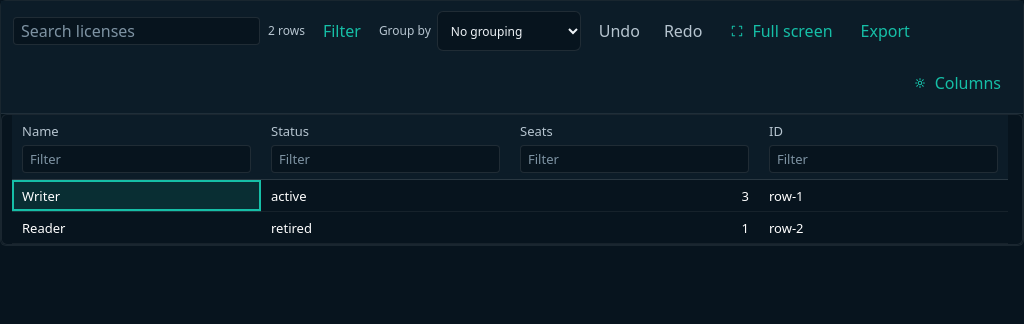
it: a cell the column rejects stays visible, is marked invalid, and blocks saving
Press ArrowRight in the table, box [12, 115, 1012, 244]
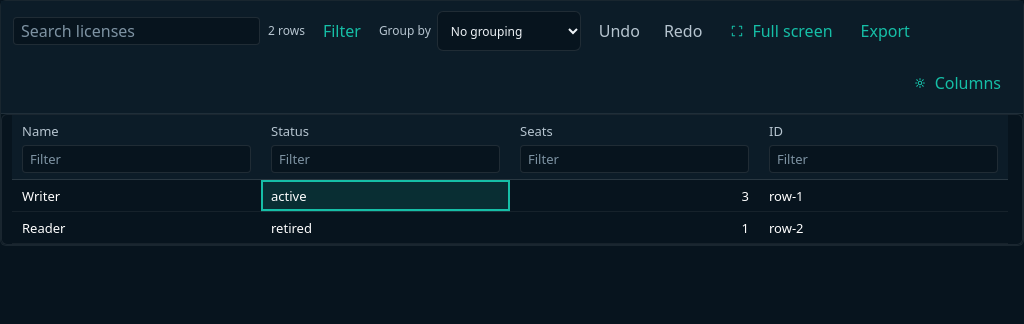
Press ArrowRight in the table, box [12, 115, 1012, 244]
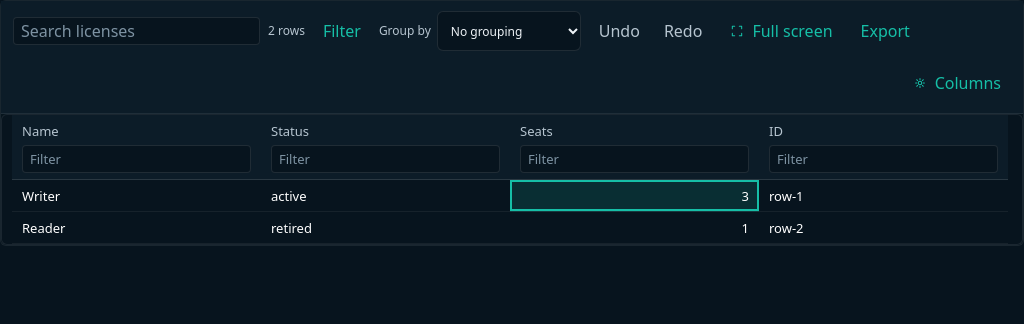
Press Enter in the table, box [12, 115, 1012, 244]
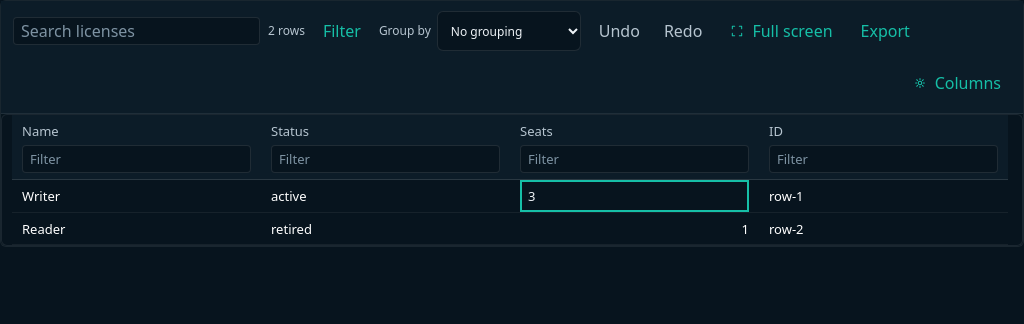
Replace the text in the field named "Seats for Writer" with "0" at (634, 196), box [520, 180, 749, 212]
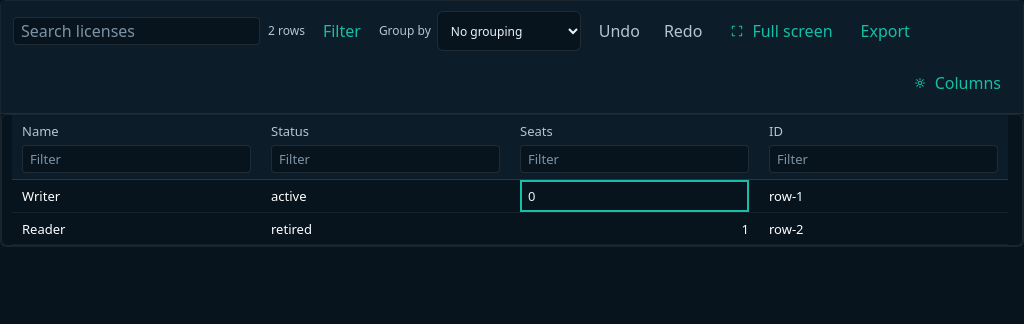
Press Enter in the field named "Seats for Writer", box [520, 180, 749, 212]
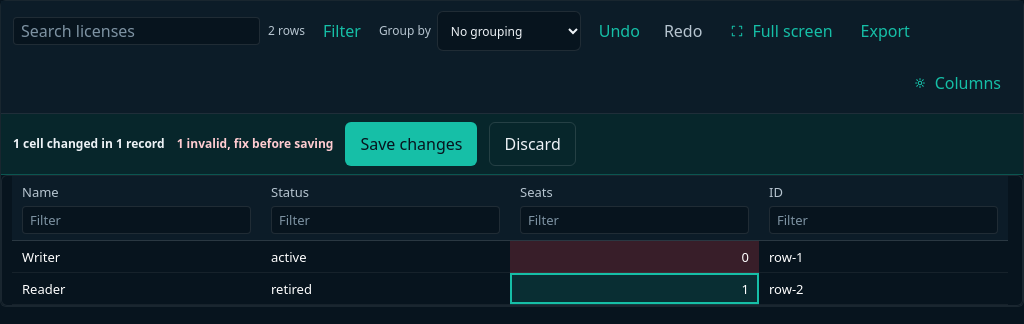
Result: the message reads "1 invalid, fix before saving" at [177, 136, 333, 152]
Result: the button "Save changes" is disabled at [345, 122, 477, 166]
